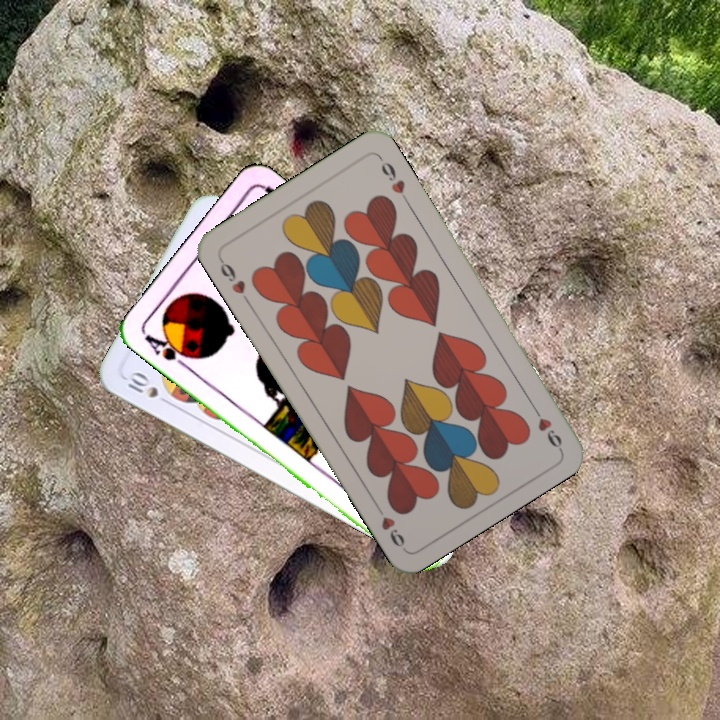H9: (526, 399, 565, 452), (214, 253, 252, 306)
S10: (123, 368, 175, 408)
SA: (140, 330, 197, 372)
